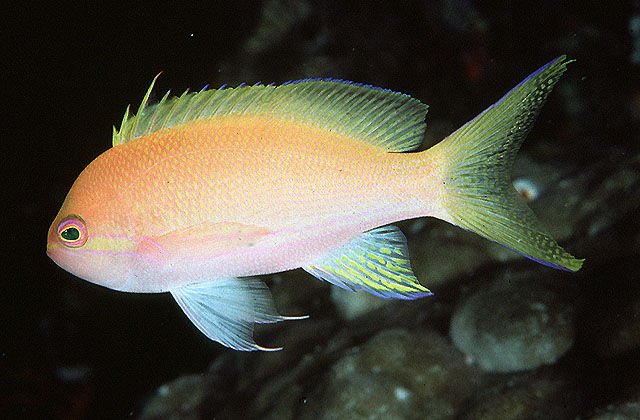fish: (46, 54, 586, 351)
